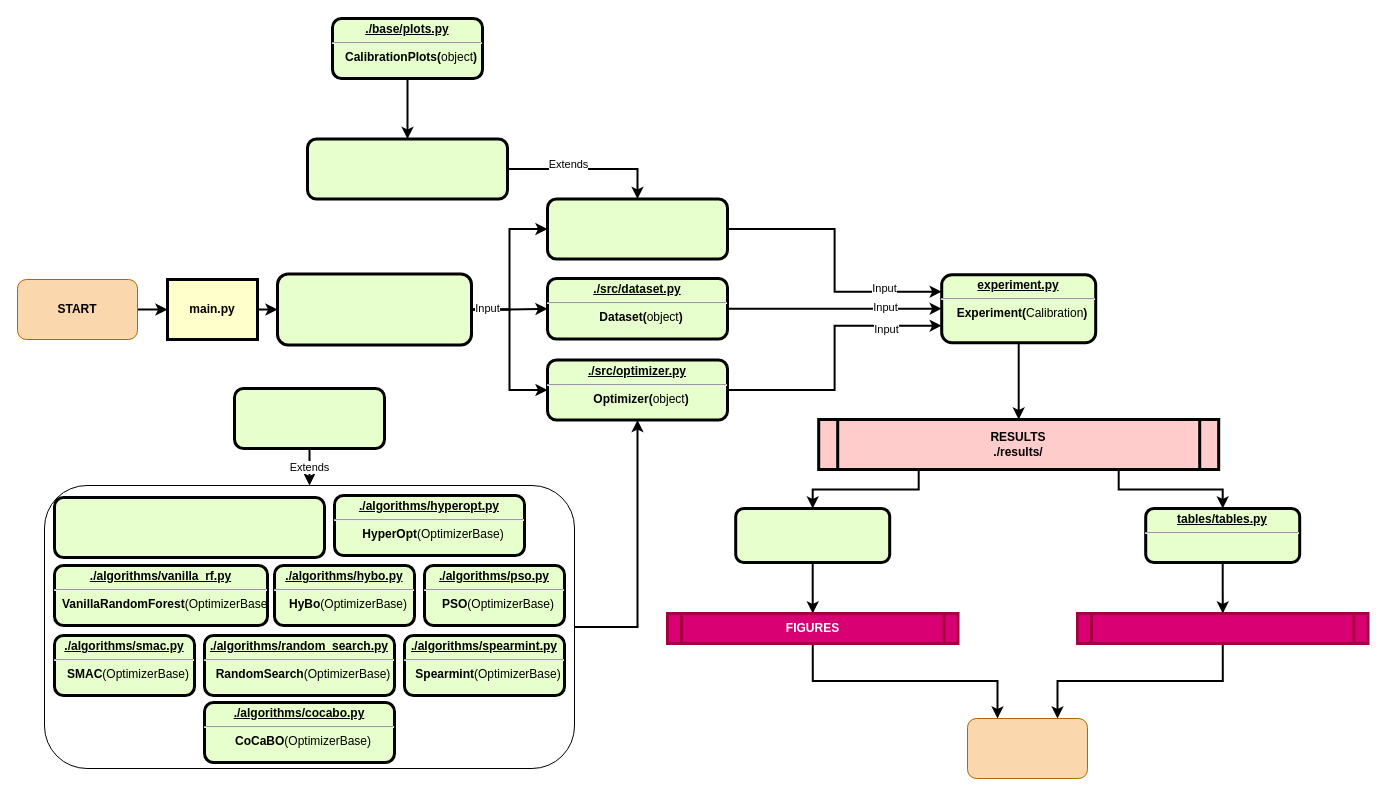
Some shapes in this 1387 by 796 pixel diagram are drawn without their labels. The shapes that lost their labels are listed below. From the top down, each one's centre as x and y in pixels, then its label:
[407,168]: ./base/calibration.py CalibrationBase( Calibration Plots )
[637,228]: ./src/calibration.py Calibration(CalibrationBase)
[374,309]: ./src/parameters.py Defaults( object ) Parameters( Defaults )
[309,418]: ./base/optimizer.py OptimizerBase( ABC )
[189,527]: ./algorithms/vanilla_bo.py VanillaBayesianOptimization (OptimizerBase)
[812,535]: figs/figures.py
[1222,628]: TABLES
[1027,748]: END
